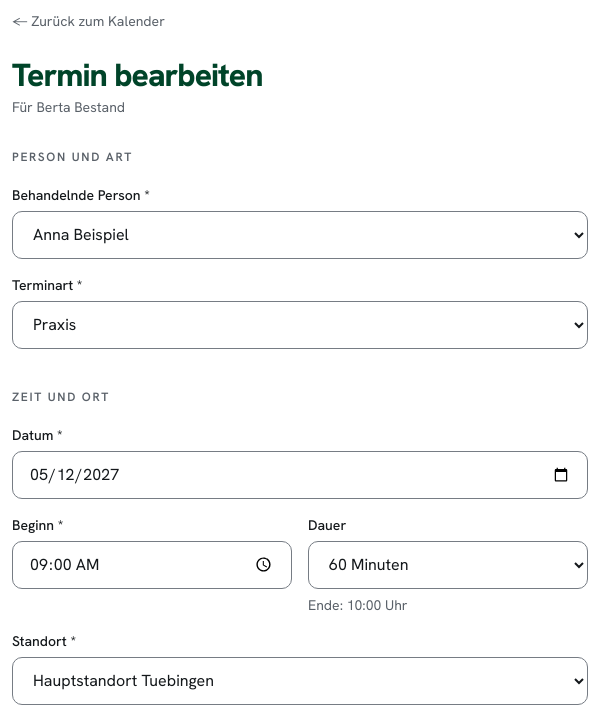
Test: EditAppointmentPage › zeigt beim Wechsel zu Hausbesuch die zu uebernehmende Adresse
Select "Hausbesuch" in the dropdown labelled "Terminart *" at (300, 325), box [12, 301, 588, 349]
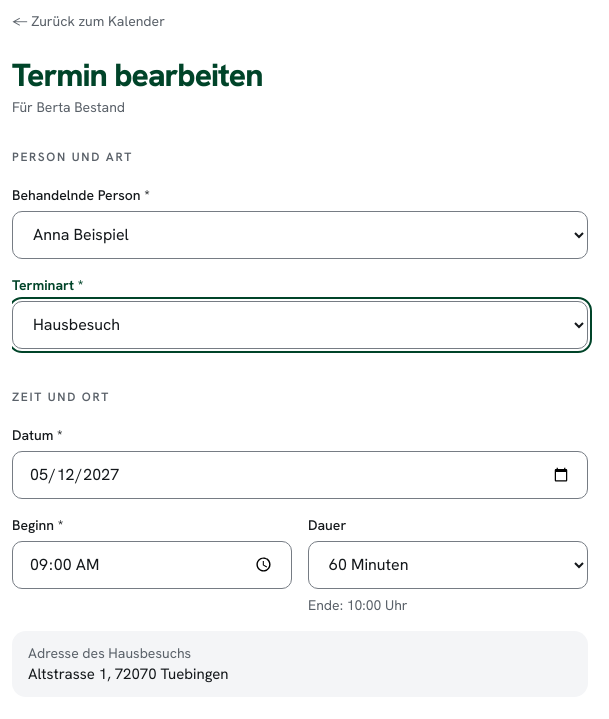
Expected: the text "Adresse des Hausbesuchs" is shown, [28, 644, 191, 662]
Expected: the text "Altstrasse 1, 72070 Tuebingen" is shown, [28, 664, 229, 684]
Expected: the label labelled "Standort *" is gone
